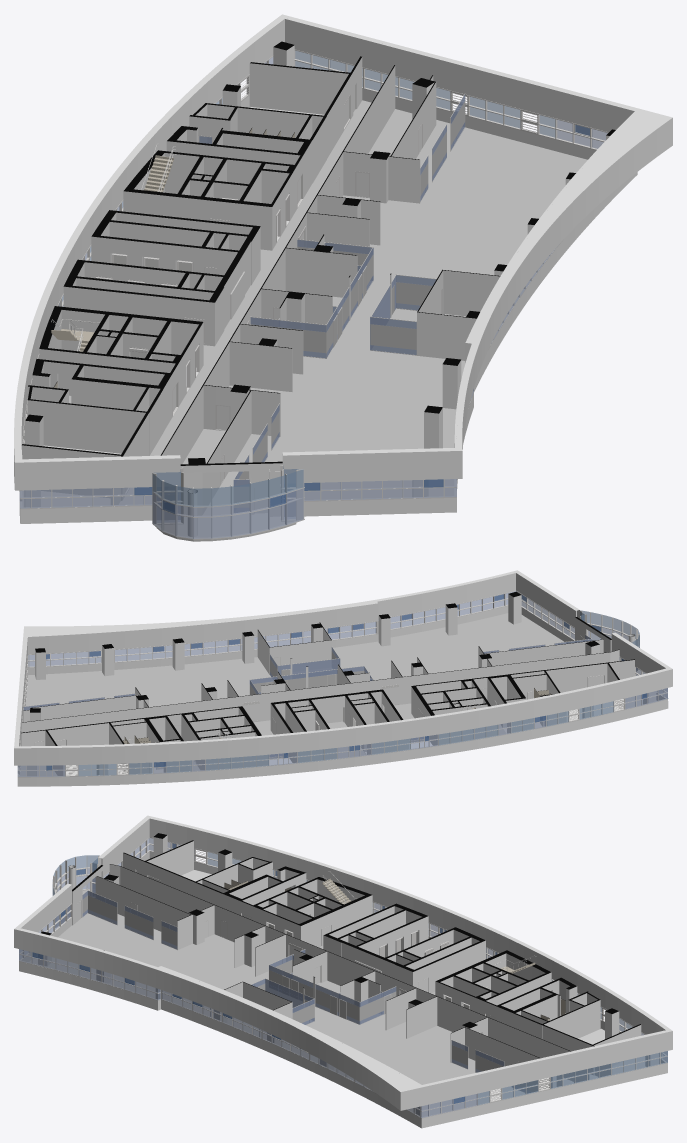
3 views of the same model, one above another, from view 1: azimuth 30°, elevation 25°; view 2: azimuth 150°, elevation 25°; view 3: azimuth 270°, elevation 25° (orthographic). The views are drawn at different scales.
Visible parts, largest first — view 1: A1-21F-Wall1, A1-21F-Floor, A1-21F-In Dry Wall, A1-21F-Dry Wall, A1-21F-Glass1, A1-21F-Glass Wall, A1-21F-Column, A1-21F-Frame, A1-21F-Glass2, A1-21F-Door, A1-21F-Wall2, A1-21F-Stairs (+2 smaller); view 2: A1-21F-Wall1, A1-21F-In Dry Wall, A1-21F-Floor, A1-21F-Dry Wall, A1-21F-Glass1, A1-21F-Frame, A1-21F-Glass2, A1-21F-Column, A1-21F-Glass Wall, A1-21F-Door, A1-21F-Glass3, A1-21F-Vent (+1 smaller); view 3: A1-21F-Wall1, A1-21F-In Dry Wall, A1-21F-Dry Wall, A1-21F-Floor, A1-21F-Glass Wall, A1-21F-Glass1, A1-21F-Frame, A1-21F-Column, A1-21F-Glass2, A1-21F-Door, A1-21F-Elevator, A1-21F-Glass3 (+3 smaller).
Part boxes in pixels (x1=…): A1-21F-Wall1: x1=21, y1=56, x2=500, y2=515; A1-21F-Floor: x1=22, y1=100, x2=587, y2=541; A1-21F-In Dry Wall: x1=19, y1=17, x2=637, y2=523; A1-21F-Dry Wall: x1=14, y1=14, x2=672, y2=490; A1-21F-Glass1: x1=19, y1=57, x2=607, y2=538; A1-21F-Glass Wall: x1=233, y1=93, x2=465, y2=512; A1-21F-Column: x1=24, y1=41, x2=615, y2=536; A1-21F-Frame: x1=19, y1=49, x2=608, y2=539; A1-21F-Glass2: x1=62, y1=51, x2=555, y2=506; A1-21F-Door: x1=119, y1=84, x2=441, y2=513; A1-21F-Wall2: x1=180, y1=461, x2=282, y2=516; A1-21F-Stairs: x1=51, y1=144, x2=175, y2=351; A1-21F-Wall1: x1=21, y1=622, x2=634, y2=775; A1-21F-In Dry Wall: x1=17, y1=572, x2=668, y2=786; A1-21F-Floor: x1=20, y1=613, x2=642, y2=775; A1-21F-Dry Wall: x1=14, y1=570, x2=672, y2=765; A1-21F-Glass1: x1=17, y1=591, x2=668, y2=776; A1-21F-Frame: x1=17, y1=590, x2=667, y2=777; A1-21F-Glass2: x1=78, y1=610, x2=639, y2=776; A1-21F-Column: x1=27, y1=591, x2=655, y2=775; A1-21F-Glass Wall: x1=23, y1=634, x2=591, y2=710; A1-21F-Door: x1=34, y1=636, x2=619, y2=762; A1-21F-Glass3: x1=46, y1=594, x2=647, y2=770; A1-21F-Vent: x1=25, y1=687, x2=624, y2=776; A1-21F-Wall1: x1=95, y1=840, x2=641, y2=1088; A1-21F-In Dry Wall: x1=19, y1=817, x2=667, y2=1128; A1-21F-Dry Wall: x1=14, y1=815, x2=672, y2=1110; A1-21F-Floor: x1=29, y1=870, x2=645, y2=1115; A1-21F-Glass Wall: x1=82, y1=890, x2=540, y2=1093; A1-21F-Glass1: x1=19, y1=838, x2=667, y2=1117; A1-21F-Frame: x1=19, y1=837, x2=667, y2=1118; A1-21F-Column: x1=38, y1=833, x2=658, y2=1116; A1-21F-Glass2: x1=52, y1=852, x2=667, y2=1105; A1-21F-Door: x1=77, y1=869, x2=600, y2=1076; A1-21F-Elevator: x1=267, y1=915, x2=488, y2=1009; A1-21F-Glass3: x1=32, y1=843, x2=579, y2=1103.
Bounding box in the file's own units: 71.25 × 5.2 × 71.71.
